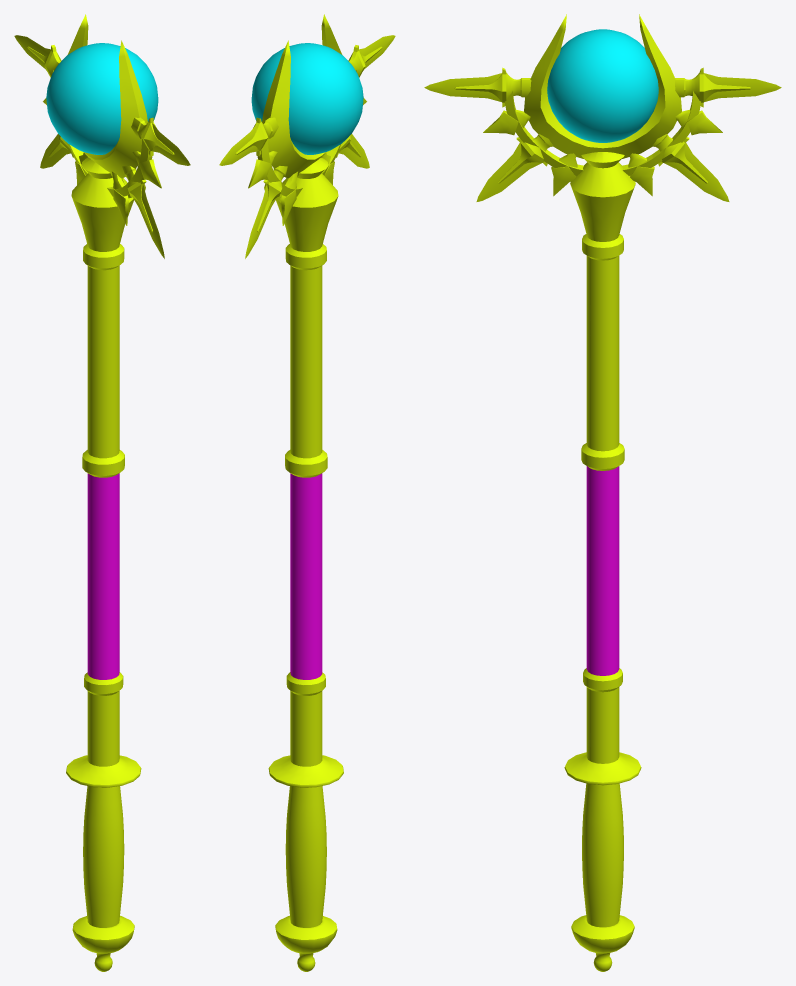
The model's file is MoonScepterText.fbx.
3 renders of one model, left to right at view 1: azimuth 30°, elevation 25°; view 2: azimuth 150°, elevation 25°; view 3: azimuth 270°, elevation 25°, orthographic.
Visible parts, largest first — view 1: Object008; view 2: Object008; view 3: Object008.
Boxes of the visible parts, x1,y1,x2,y2 form: Object008: (14, 14, 190, 971); Object008: (219, 14, 395, 971); Object008: (424, 14, 781, 971).
Size of the model in its own units: 44.8 by 415 by 141.
